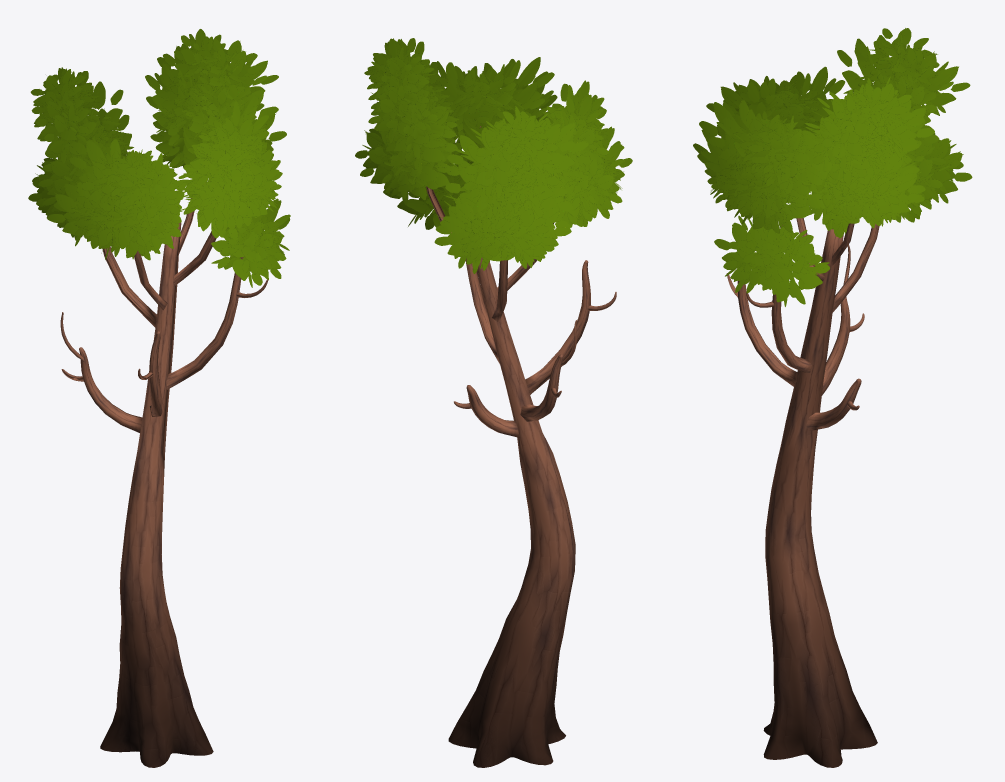
Rendered from CommonTree_4.gltf.
3 renders of one model, left to right at view 1: azimuth 30°, elevation 25°; view 2: azimuth 150°, elevation 25°; view 3: azimuth 270°, elevation 25°, orthographic. The views are drawn at different scales.
Visible parts, largest first — view 1: CommonTree_4; view 2: CommonTree_4; view 3: CommonTree_4.
Part boxes in pixels (x1,y1,x2,y2): CommonTree_4: [28, 29, 290, 767]; CommonTree_4: [355, 38, 632, 767]; CommonTree_4: [693, 28, 972, 767].
Bounding box in the file's own units: 3.83 × 9.44 × 3.76.
2 materials, 2 textured.
